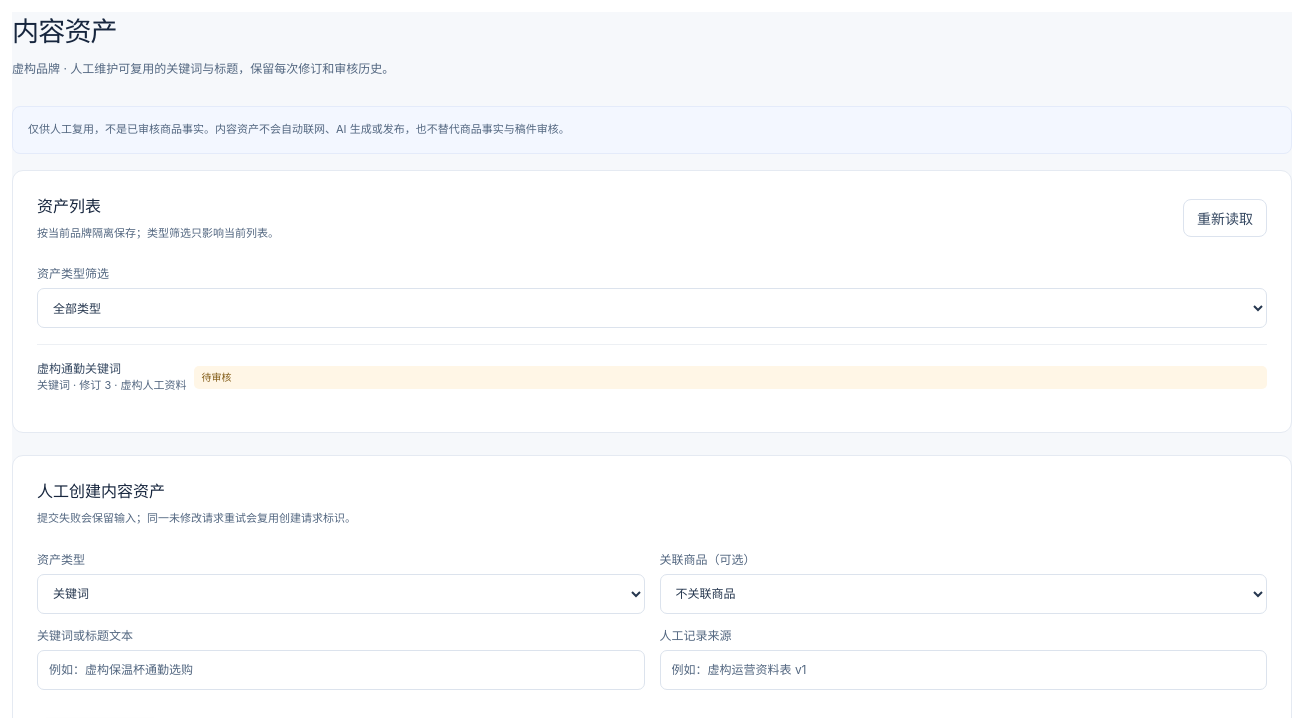
Test: loads_assets_and_filters_by_kind_without_treating_them_as_product_facts
Check: the button "虚构通勤关键词 关键词 · 修订 3 · 虚构人工资料 待审核" is shown, box [37, 344, 1267, 409]
Check: the text "仅供人工复用，不是已审核商品事实。内容资产不会自动联网、AI 生成或发布，也不替代商品事实与稿件审核。" is shown, box [12, 106, 1291, 154]
Select "标题" in the dropdown labelled "资产类型筛选" at (652, 308), box [37, 288, 1267, 328]
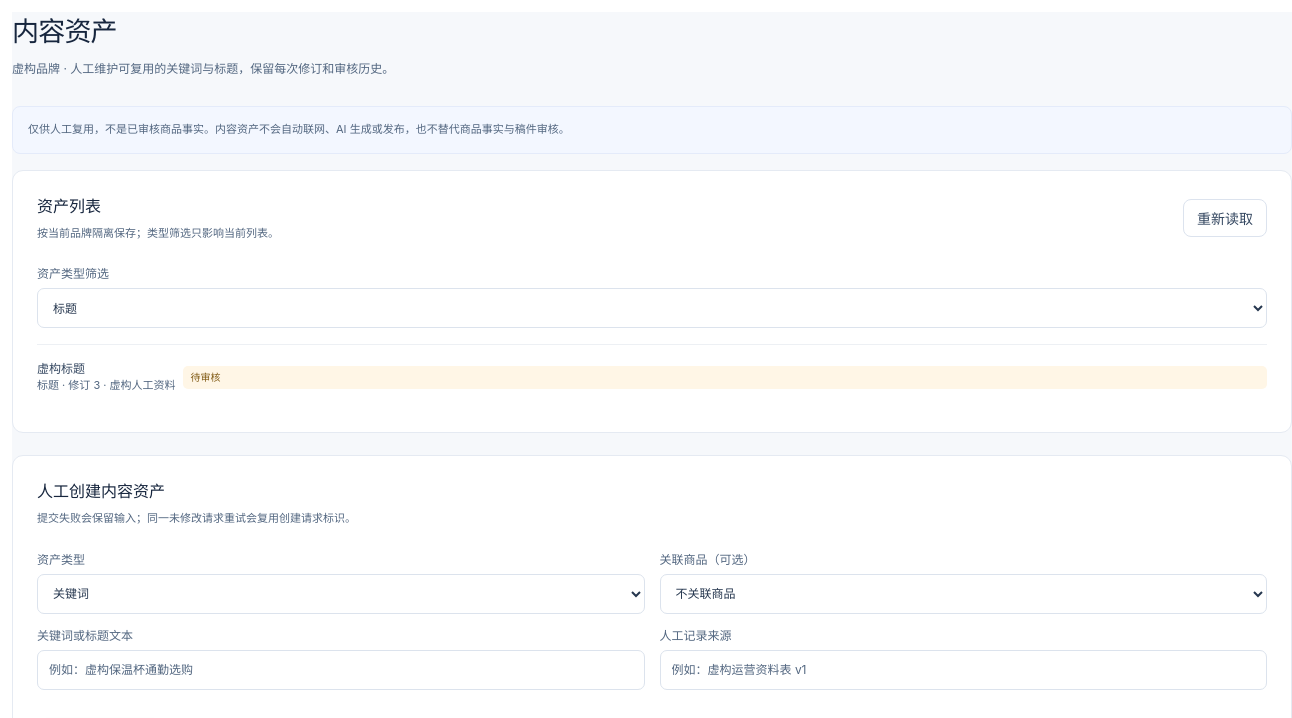
Check: the button "虚构标题 标题 · 修订 3 · 虚构人工资料 待审核" is shown, box [37, 344, 1267, 409]
